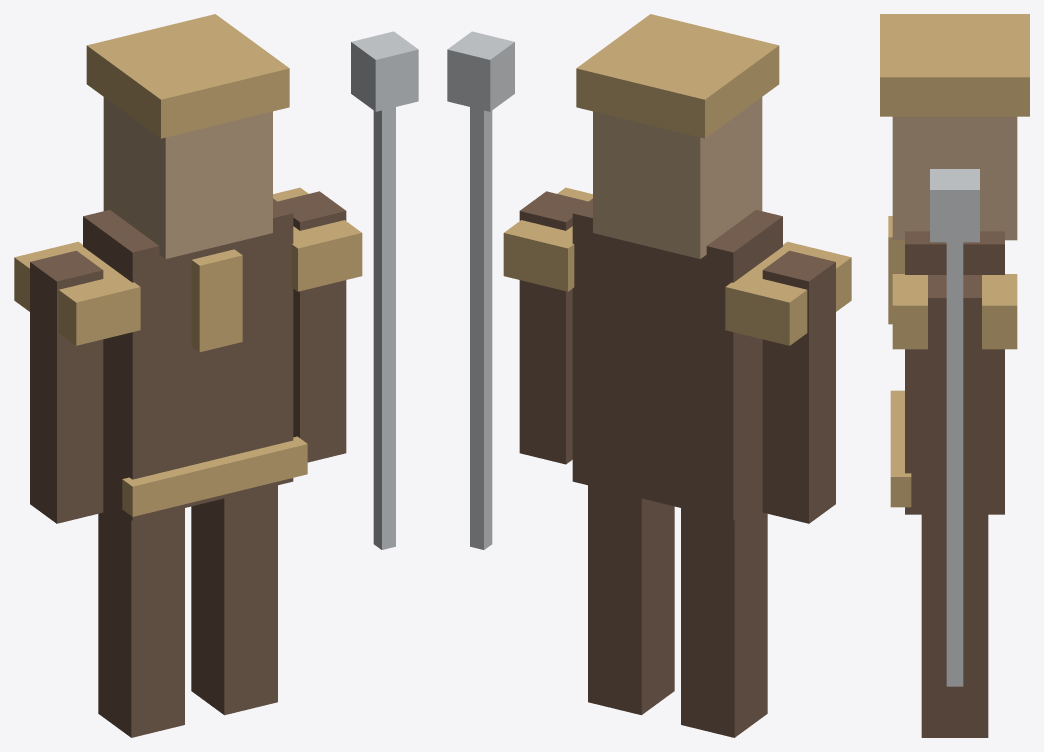
Rendered from 05_tovin_latchward_watcher_of_deep.glb.
3 renders of one model, left to right at view 1: azimuth 30°, elevation 25°; view 2: azimuth 150°, elevation 25°; view 3: azimuth 270°, elevation 25°, orthographic.
Visible parts, largest first — view 1: Tovin Latchward, Watcher of Deep; view 2: Tovin Latchward, Watcher of Deep; view 3: Tovin Latchward, Watcher of Deep.
Part boxes in pixels (x1,y1,x2,y2): Tovin Latchward, Watcher of Deep: [14, 14, 418, 737]; Tovin Latchward, Watcher of Deep: [447, 14, 851, 737]; Tovin Latchward, Watcher of Deep: [880, 14, 1029, 737].
Size of the model in its own units: 0.9872 by 1.69 by 0.3501.
